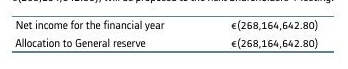table: (0, 0, 348, 69)
